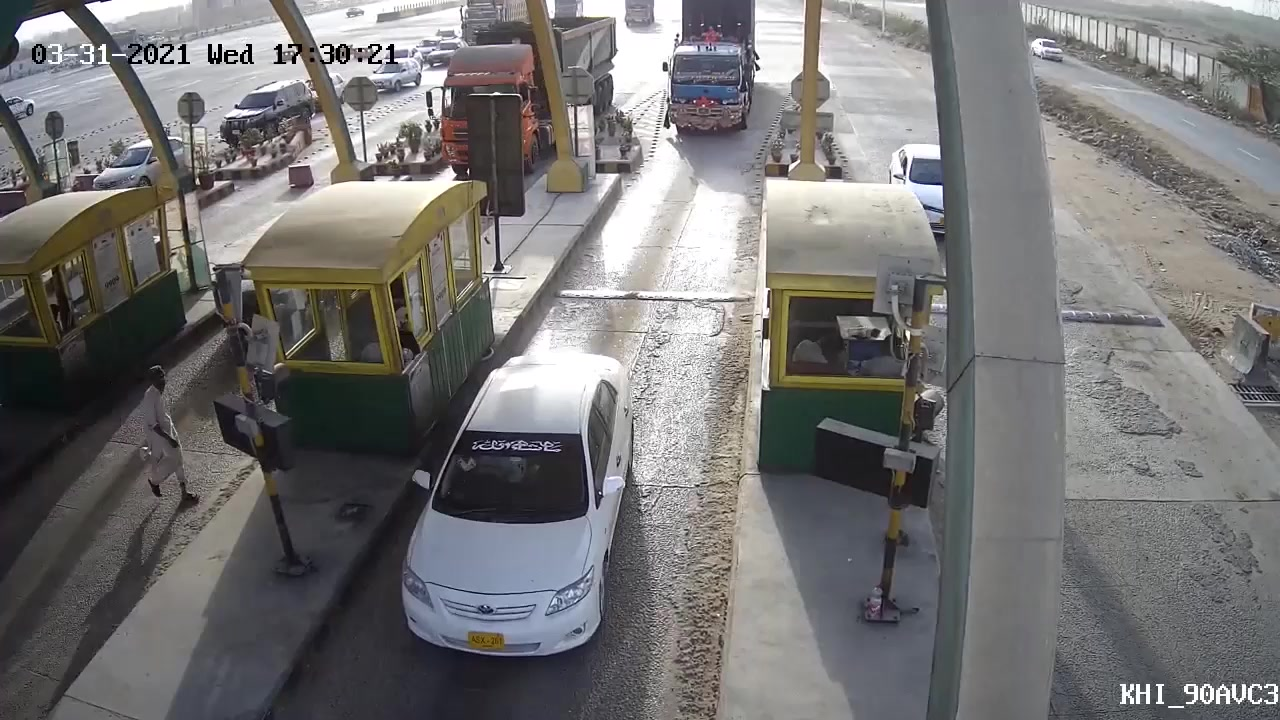F1: (379, 338, 639, 662)
